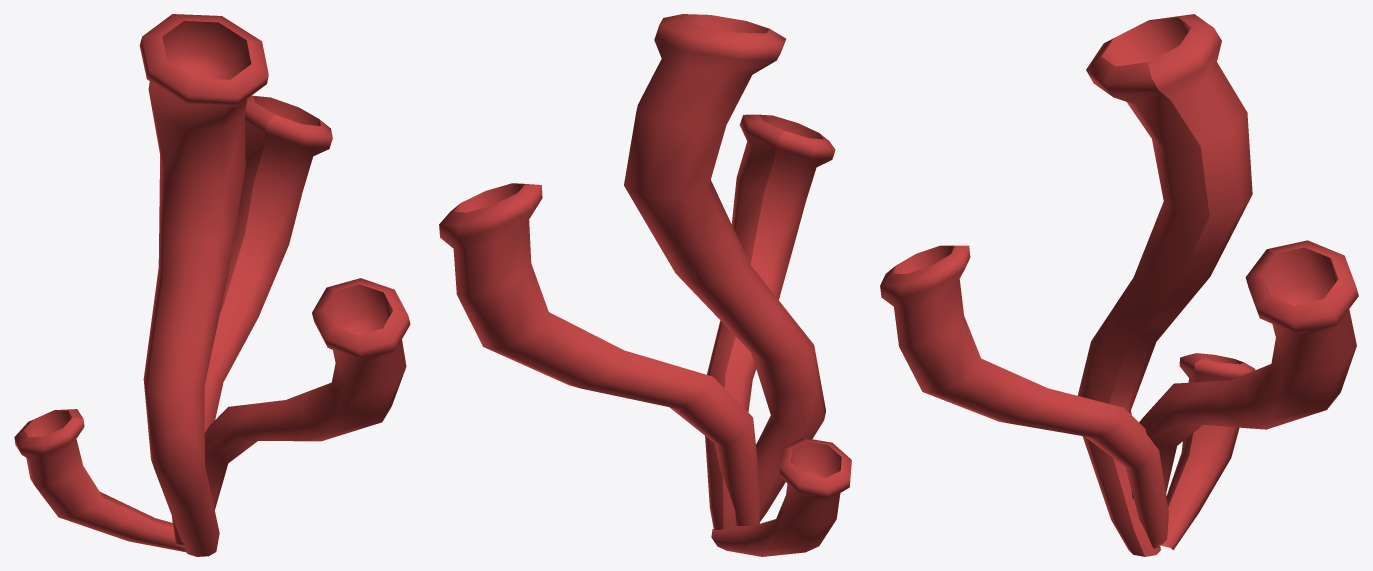
The model's file is kelp.glb.
The picture shows the model from 3 angles, left to right: view 1: azimuth 30°, elevation 25°; view 2: azimuth 150°, elevation 25°; view 3: azimuth 270°, elevation 25°; orthographic projection. The views are drawn at different scales.
Visible parts, largest first — view 1: node_id61; view 2: node_id61; view 3: node_id61.
Boxes of the visible parts, x1,y1,x2,y2 form: node_id61: [14, 14, 410, 556]; node_id61: [439, 14, 851, 556]; node_id61: [880, 14, 1358, 556].
Bounding box in the file's own units: 2 × 2.82 × 2.31.
